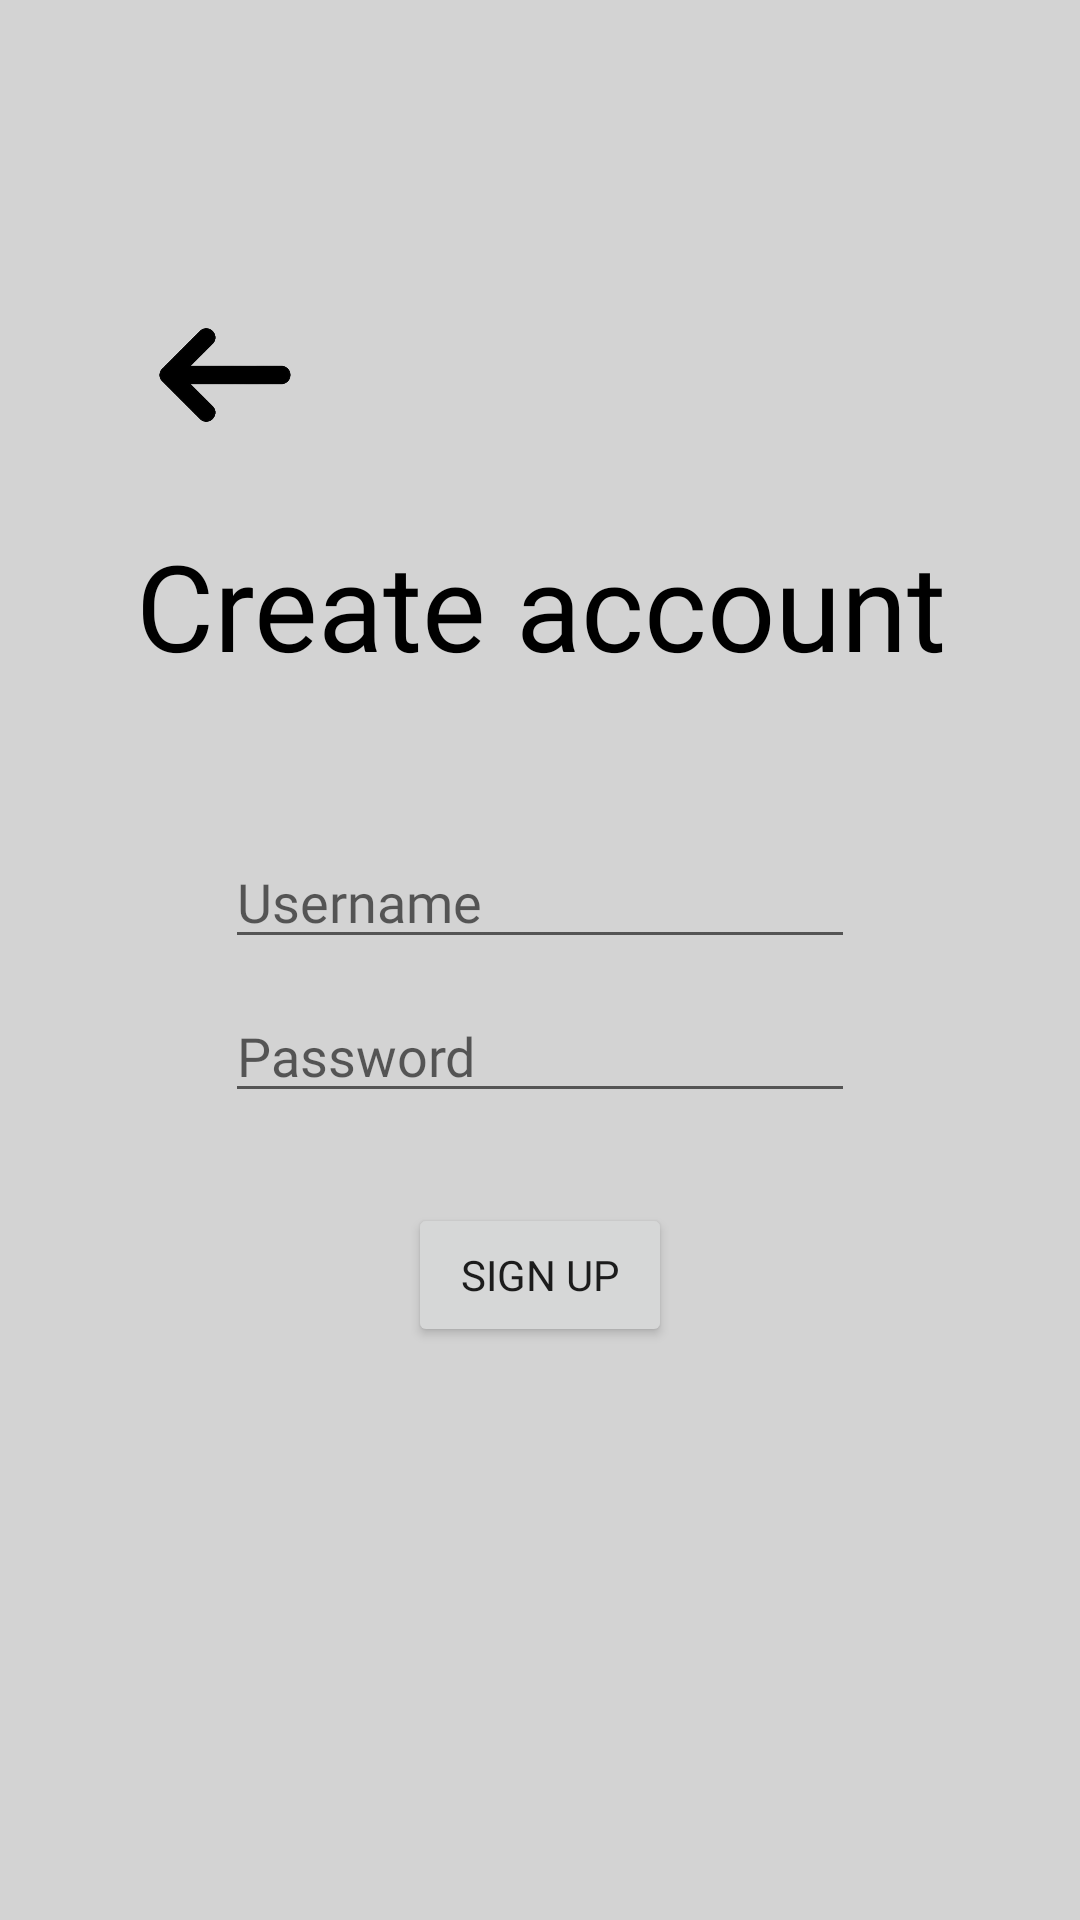

Point at icon controls on the screen. Image size 1080*1920, points as (x=x, y=y).
back: (x=225, y=375)
